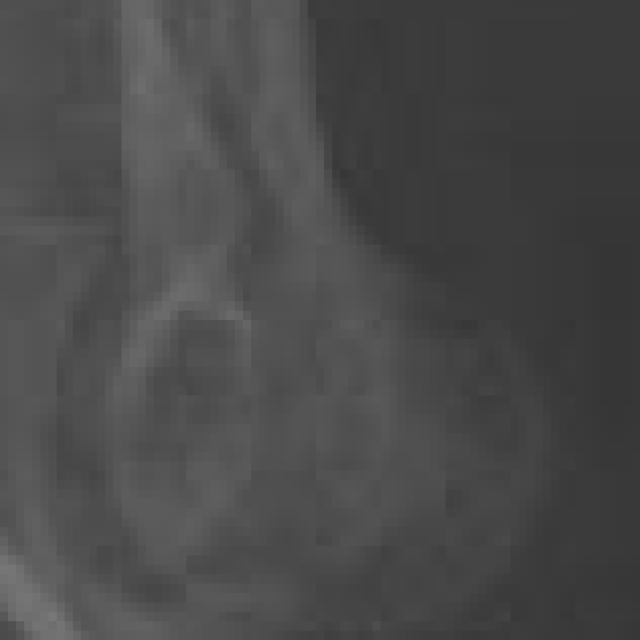fracture: (0, 2, 640, 638)
